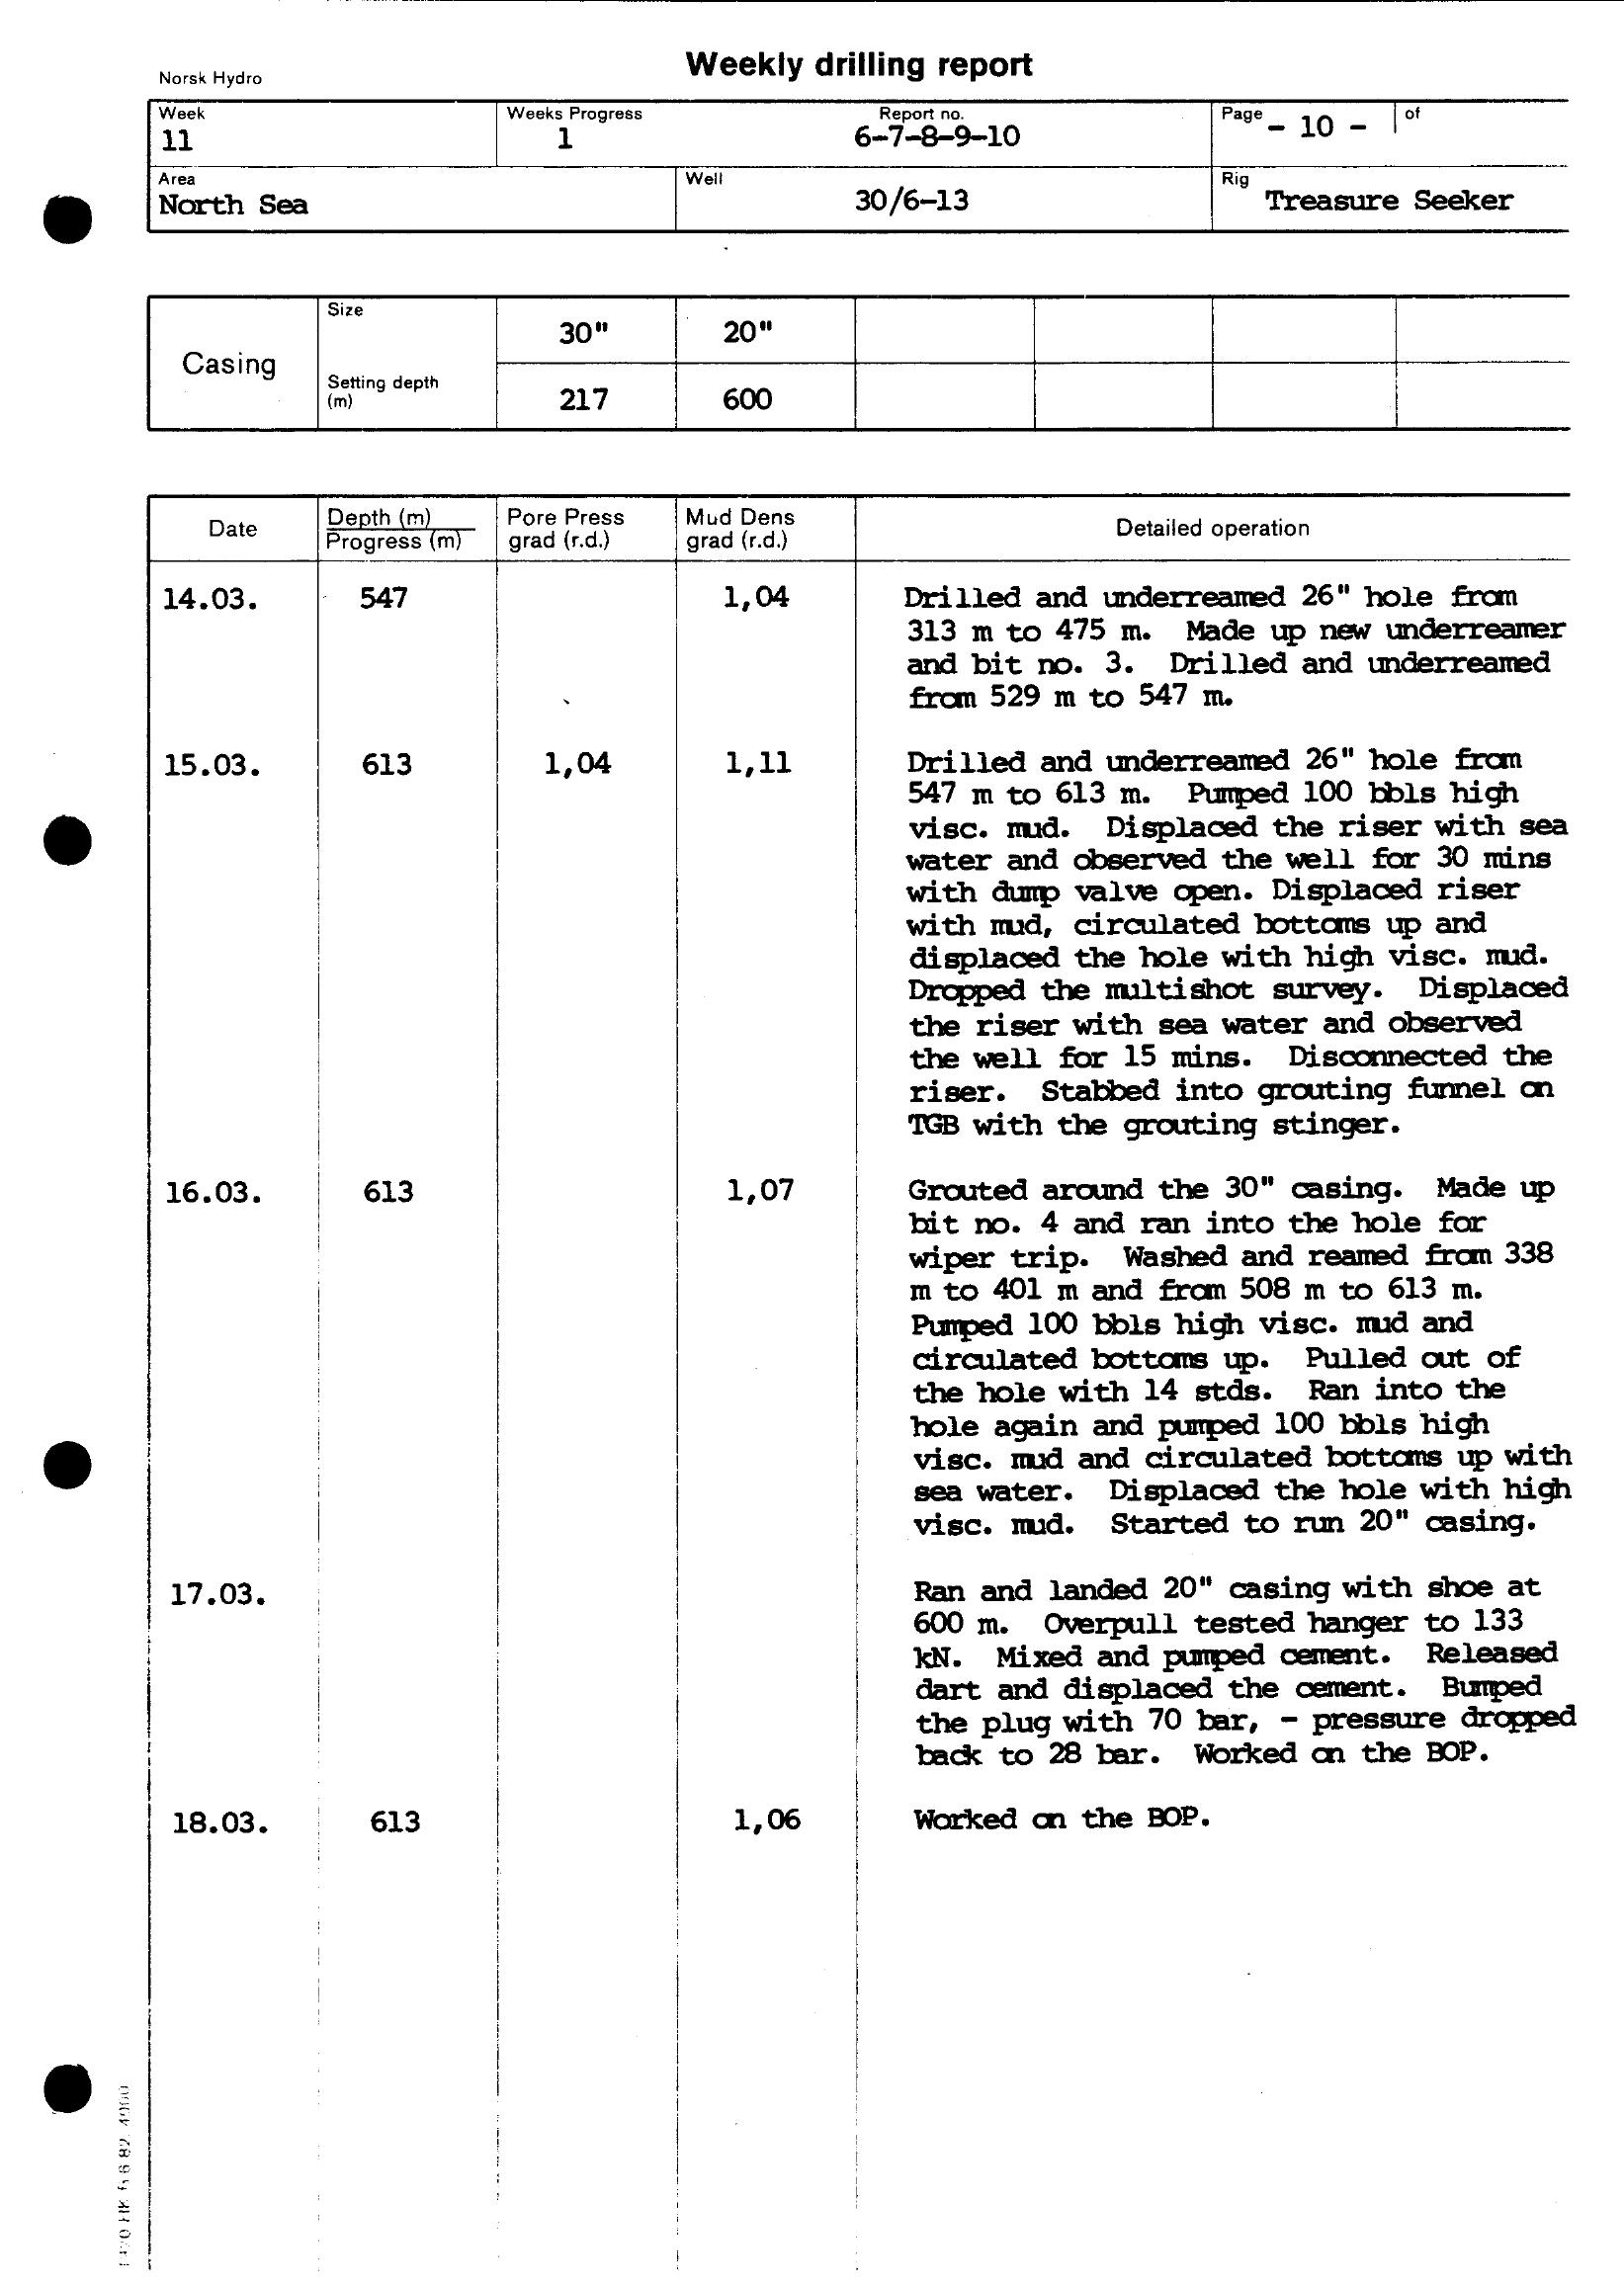graph: (120, 84, 1624, 1912)
text: (677, 25, 1044, 86)
